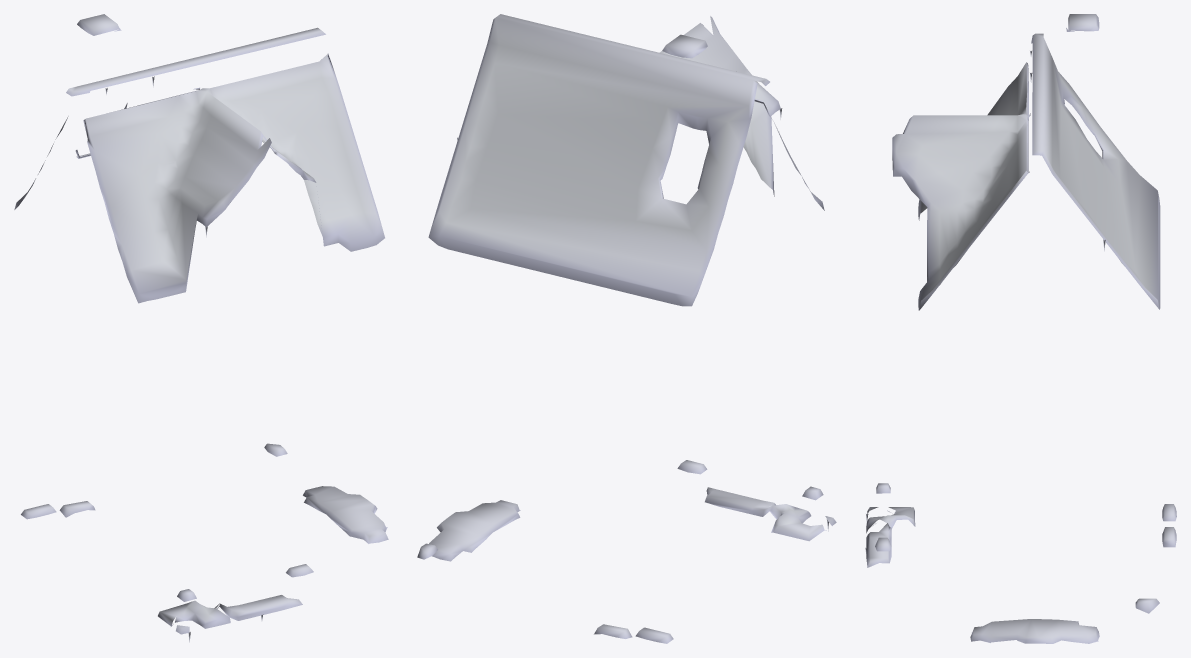
The model's file is category.bridge.m.snow.glb.
The picture shows the model from 3 angles, left to right: view 1: azimuth 30°, elevation 25°; view 2: azimuth 150°, elevation 25°; view 3: azimuth 270°, elevation 25°; orthographic projection. The views are drawn at different scales.
Visible parts, largest first — view 1: snow; view 2: snow; view 3: snow.
Part boxes in pixels (x1,y1,x2,y2): snow: (14, 14, 388, 642); snow: (417, 14, 836, 643); snow: (865, 14, 1176, 643).
Bounding box in the file's own units: 5.06 × 8.54 × 4.68.
